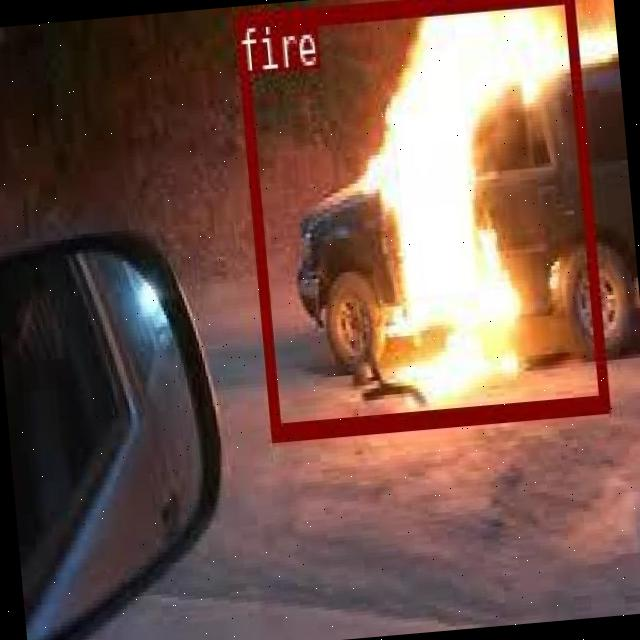fire: (234, 0, 608, 440)
